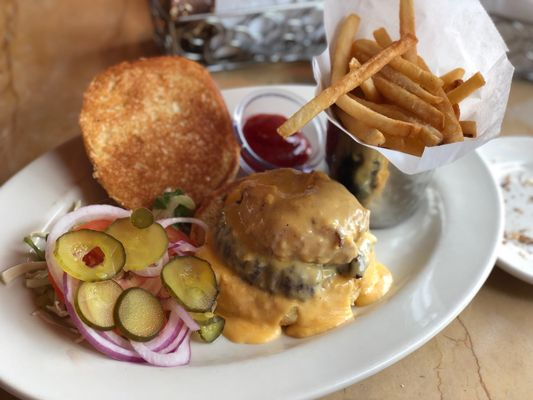soup: (195, 167, 390, 345), (79, 55, 242, 217)
